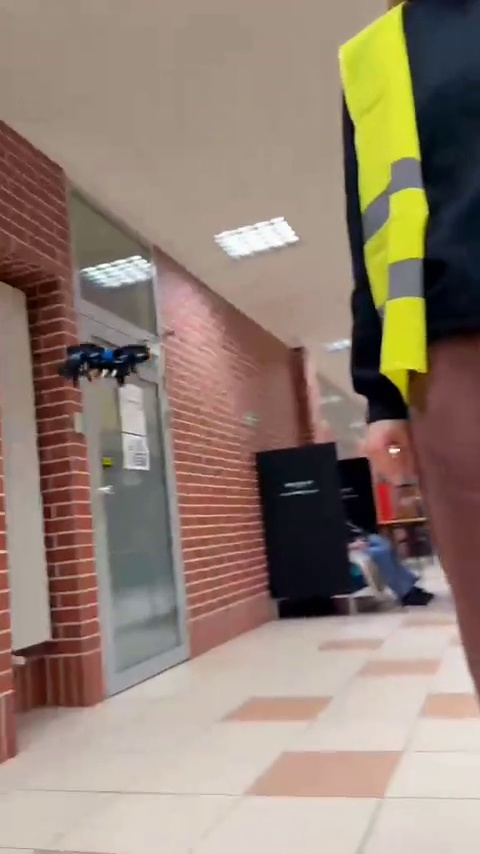drone: (47, 336, 155, 393)
